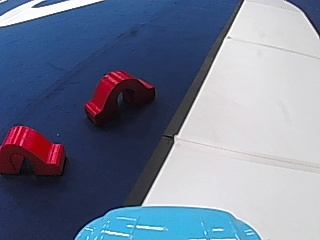bridge: (80, 65, 158, 127), (0, 123, 68, 177)
